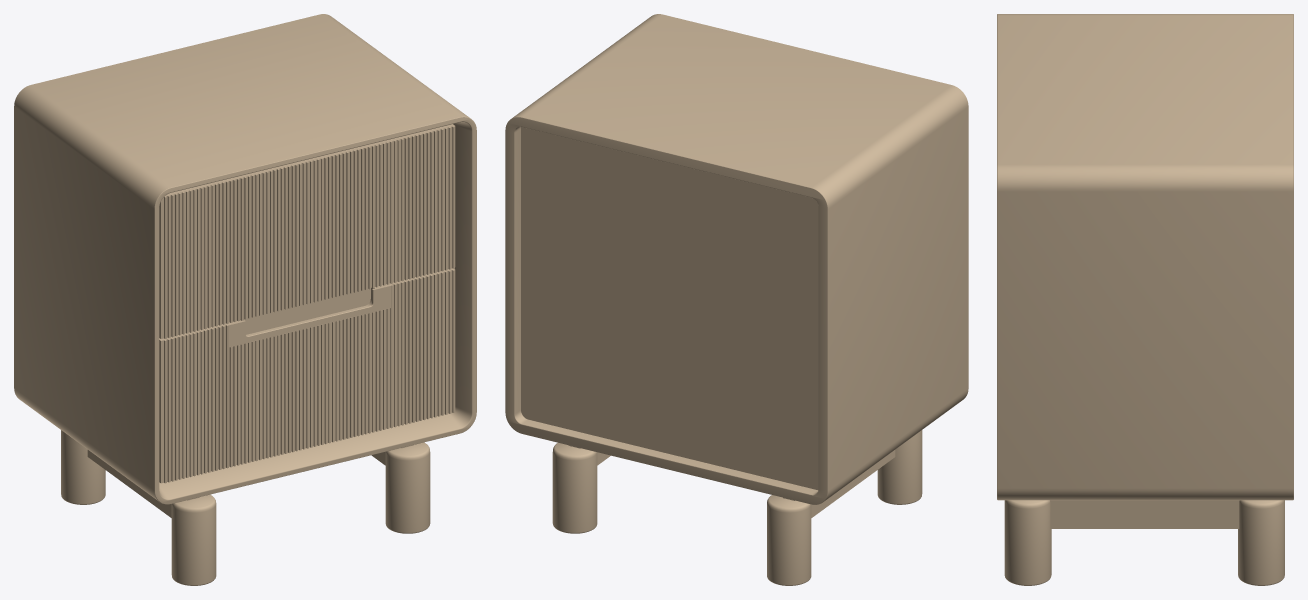
Rendered from mesa-de-cabeceira-mencia.glb.
The picture shows the model from 3 angles, left to right: view 1: azimuth 30°, elevation 25°; view 2: azimuth 150°, elevation 25°; view 3: azimuth 270°, elevation 25°; orthographic projection. The views are drawn at different scales.
Size of the model in its own units: 0.5344 by 0.6479 by 0.404.
